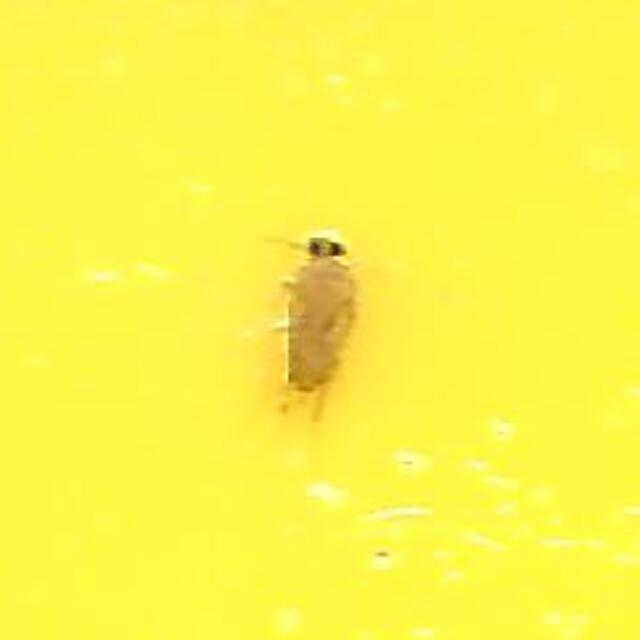Trichoptera: (264, 229, 376, 411)
